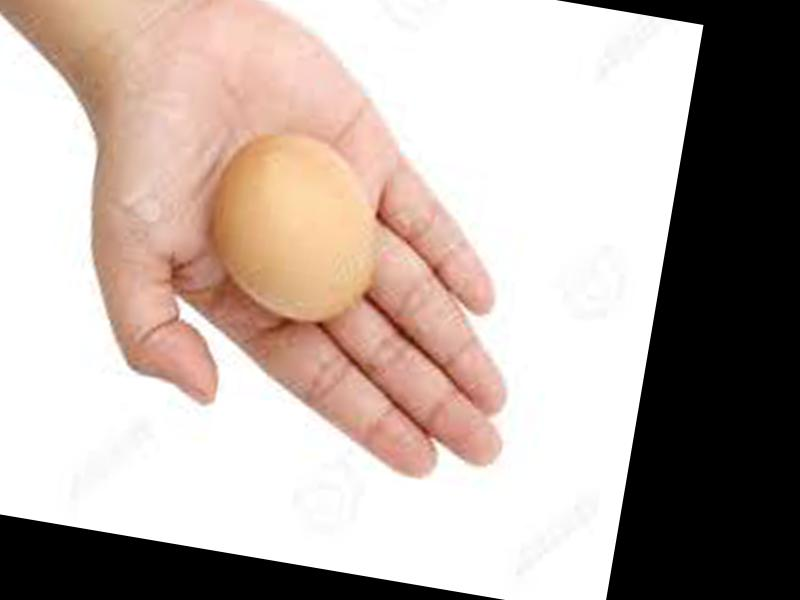Eggs: (195, 123, 389, 328)
